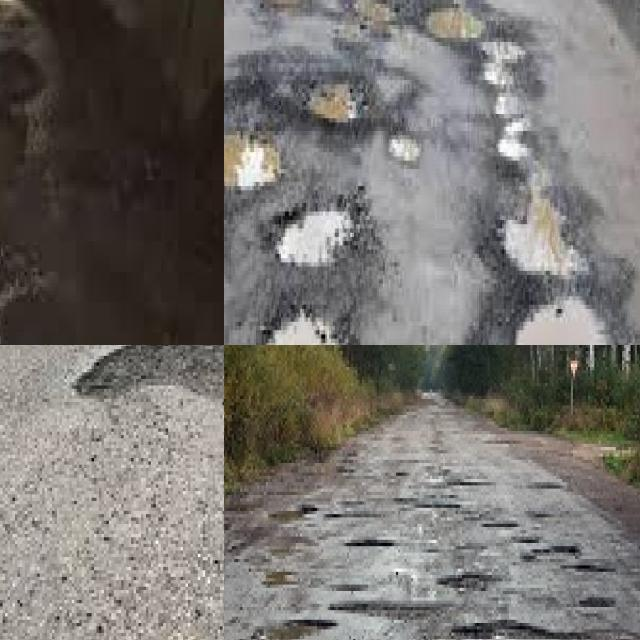Pothole: (0, 17, 45, 211), (483, 42, 529, 173), (506, 190, 564, 275), (278, 212, 352, 265), (515, 301, 604, 345), (456, 623, 638, 640), (224, 136, 280, 188), (326, 597, 445, 620), (266, 310, 338, 345), (344, 0, 417, 34), (425, 4, 485, 42), (249, 613, 319, 640), (309, 84, 356, 121), (524, 543, 603, 565), (436, 572, 492, 594), (389, 136, 420, 164), (579, 591, 618, 607), (347, 537, 394, 549), (264, 0, 304, 6)
